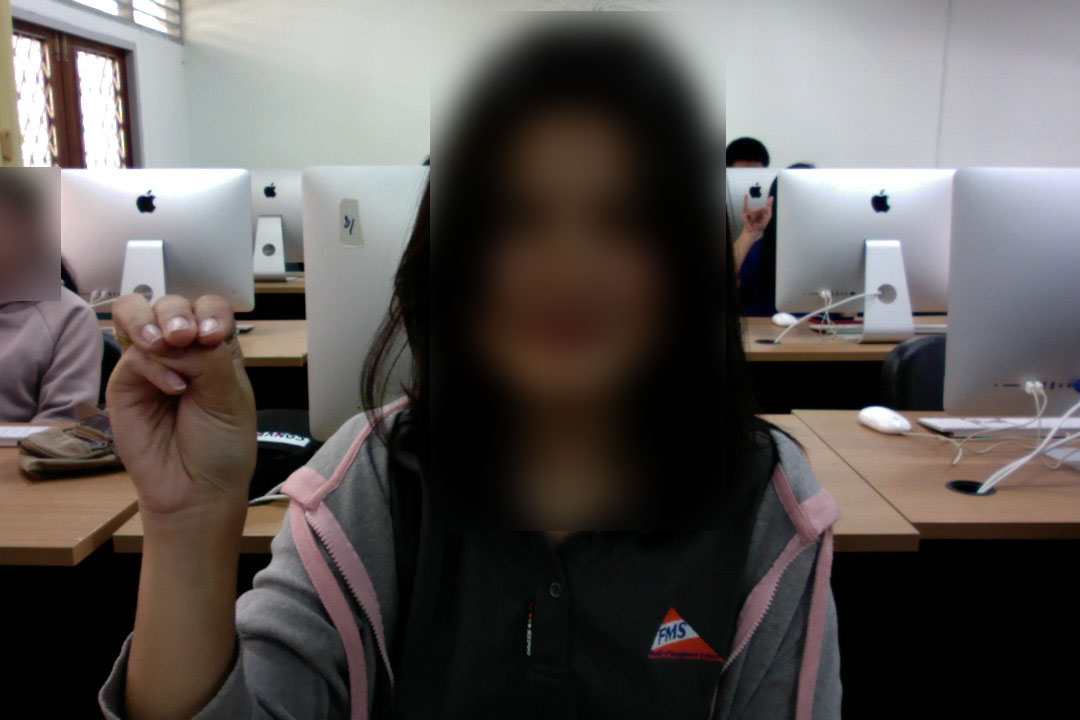mor: (98, 288, 269, 530)
